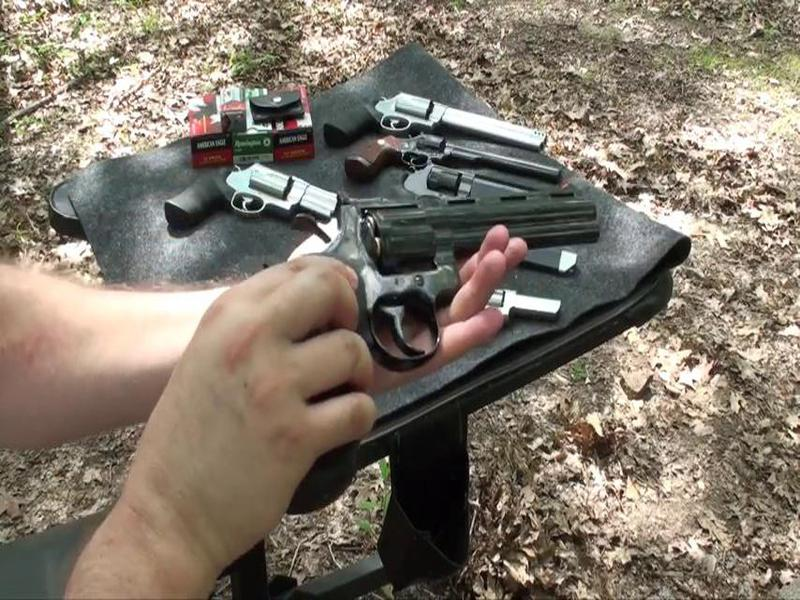Revolver: (225, 176, 610, 492)
